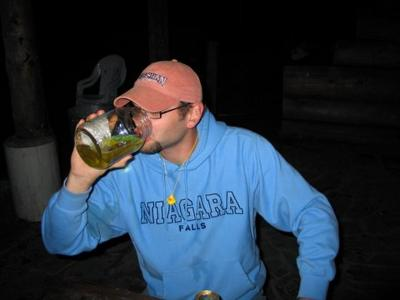person: (41, 57, 343, 300)
